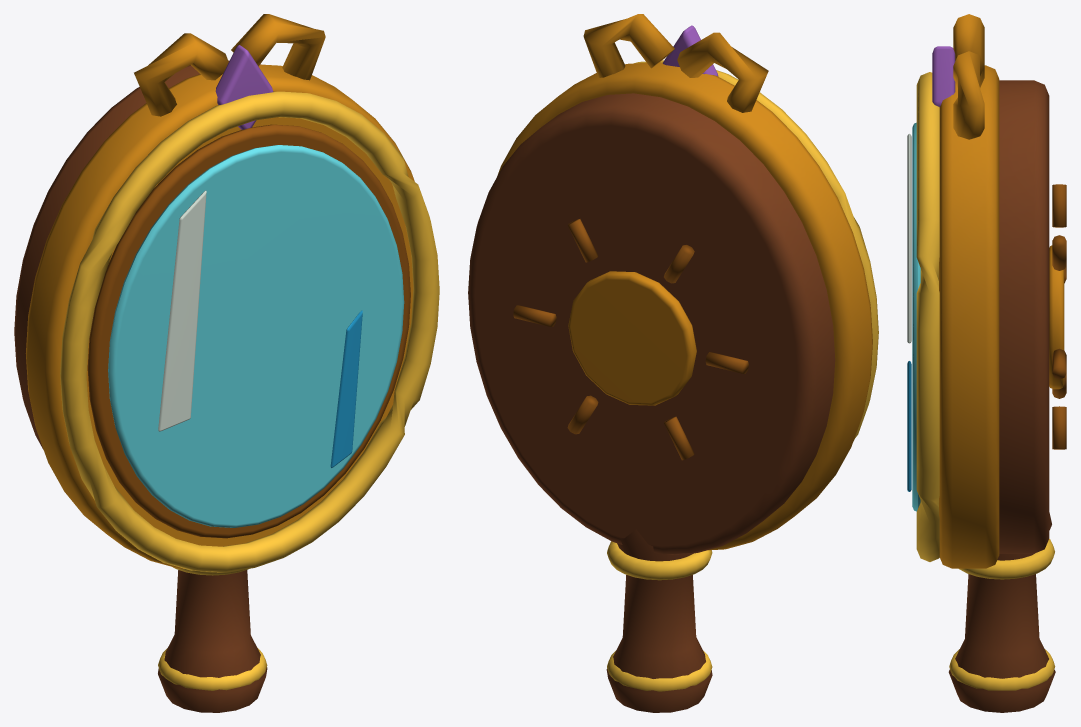
The model's file is upgrade_mirror.glb.
The picture shows the model from 3 angles, left to right: view 1: azimuth 30°, elevation 25°; view 2: azimuth 150°, elevation 25°; view 3: azimuth 270°, elevation 25°; orthographic projection. The views are drawn at different scales.
Parts seen in each view (by area): view 1: upgrade_mirror_runtime; view 2: upgrade_mirror_runtime; view 3: upgrade_mirror_runtime.
Part boxes in pixels (x1=…): upgrade_mirror_runtime: x1=14, y1=14, x2=439, y2=712; upgrade_mirror_runtime: x1=468, y1=14, x2=878, y2=712; upgrade_mirror_runtime: x1=907, y1=14, x2=1066, y2=712.
Size of the model in its own units: 0.773 by 1.3 by 0.284.
Materials: 1 (1 with a texture image).
